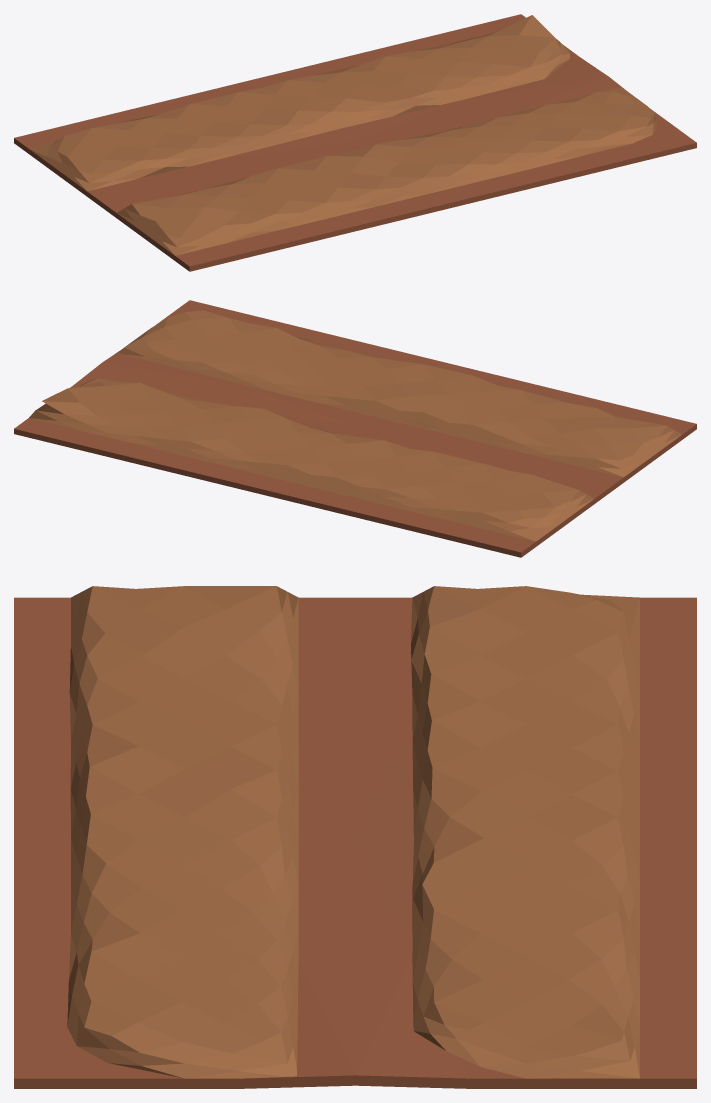
The model's file is seedbed_01.fbx.
3 renders of one model, top to bottom at view 1: azimuth 30°, elevation 25°; view 2: azimuth 150°, elevation 25°; view 3: azimuth 270°, elevation 25°, orthographic. The views are drawn at different scales.
Parts seen in each view (by area): view 1: Plane.040; view 2: Plane.040; view 3: Plane.040.
Boxes of the visible parts, left/top/right/bottom form: Plane.040: left=14, top=14, right=696, bottom=271; Plane.040: left=14, top=300, right=696, bottom=557; Plane.040: left=14, top=586, right=696, bottom=1088.
Size of the model in its own units: 500 by 19.56 by 300.
